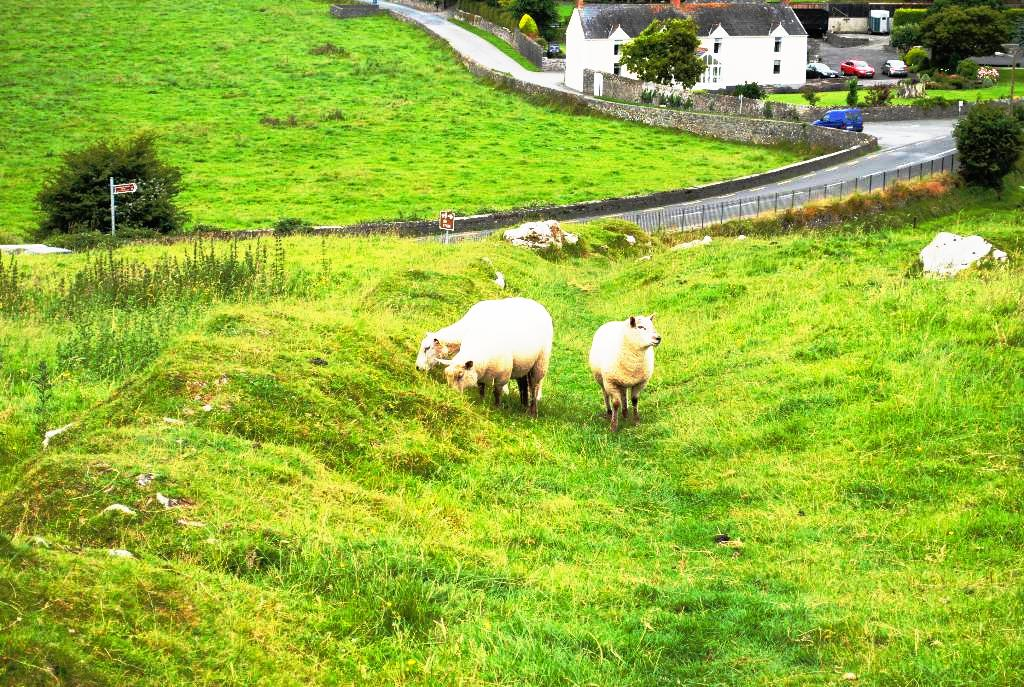Sheep: (416, 296, 555, 400), (435, 314, 551, 413), (588, 311, 661, 428)
